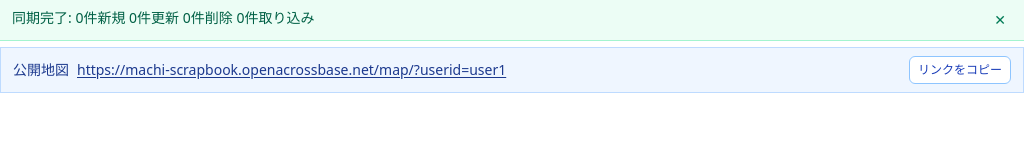
Test: 公開地図URL（ピースJ） › 「リンクをコピー」で clipboard にURLが渡され、「コピーしました」になる
The image size is (1024, 160).
What coordinates should you click on to do the following:
click the button "リンクをコピー"
I would click on:
 (960, 70)
Its box is x1=909 y1=56 x2=1011 y2=84.
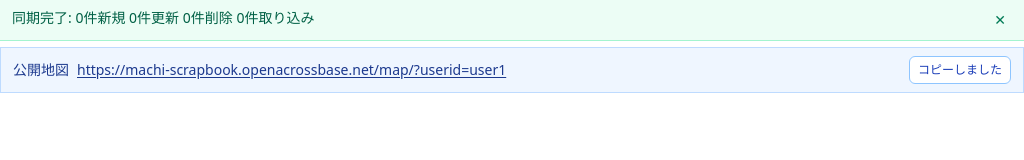
Result: the button "コピーしました" is shown at x1=909 y1=56 x2=1011 y2=84
